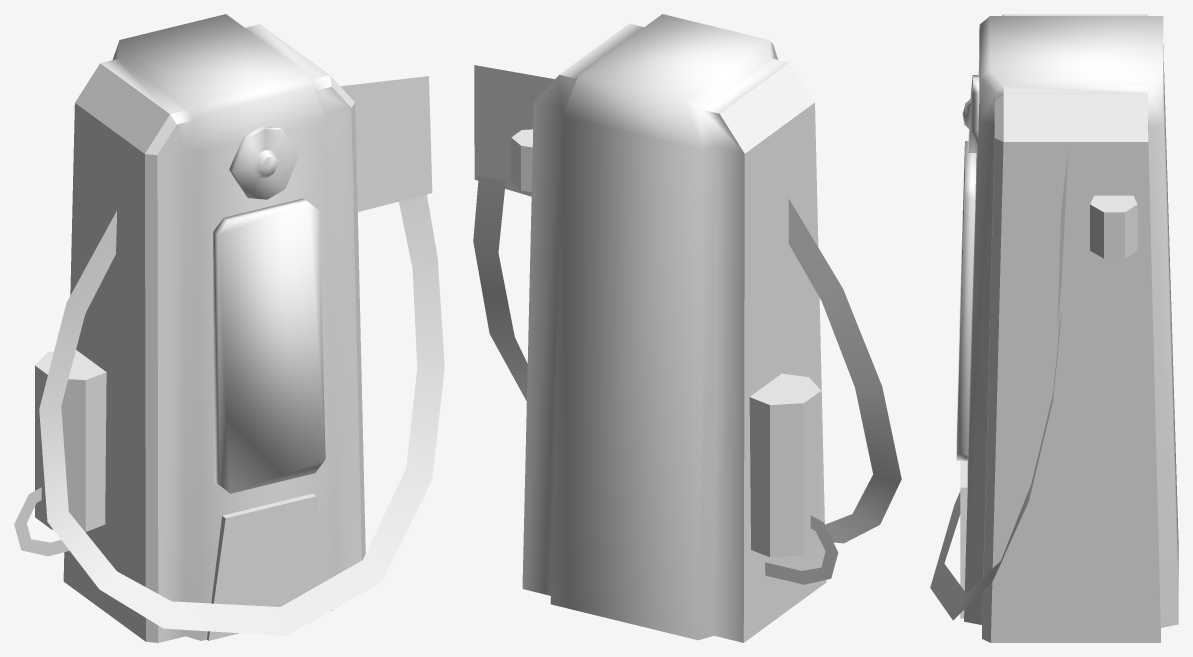
Rendered from gasPump.glb.
3 renders of one model, left to right at view 1: azimuth 30°, elevation 25°; view 2: azimuth 150°, elevation 25°; view 3: azimuth 270°, elevation 25°, orthographic. The views are drawn at different scales.
Parts seen in each view (by area): view 1: gas_Pump; view 2: gas_Pump; view 3: gas_Pump.
Part boxes in pixels (x1,y1,x2,y2): gas_Pump: (14, 14, 444, 642); gas_Pump: (473, 14, 901, 642); gas_Pump: (930, 14, 1178, 642).
Bounding box in the file's own units: 1.53 × 1.88 × 0.7779.
Materials: 2 (2 with a texture image).
